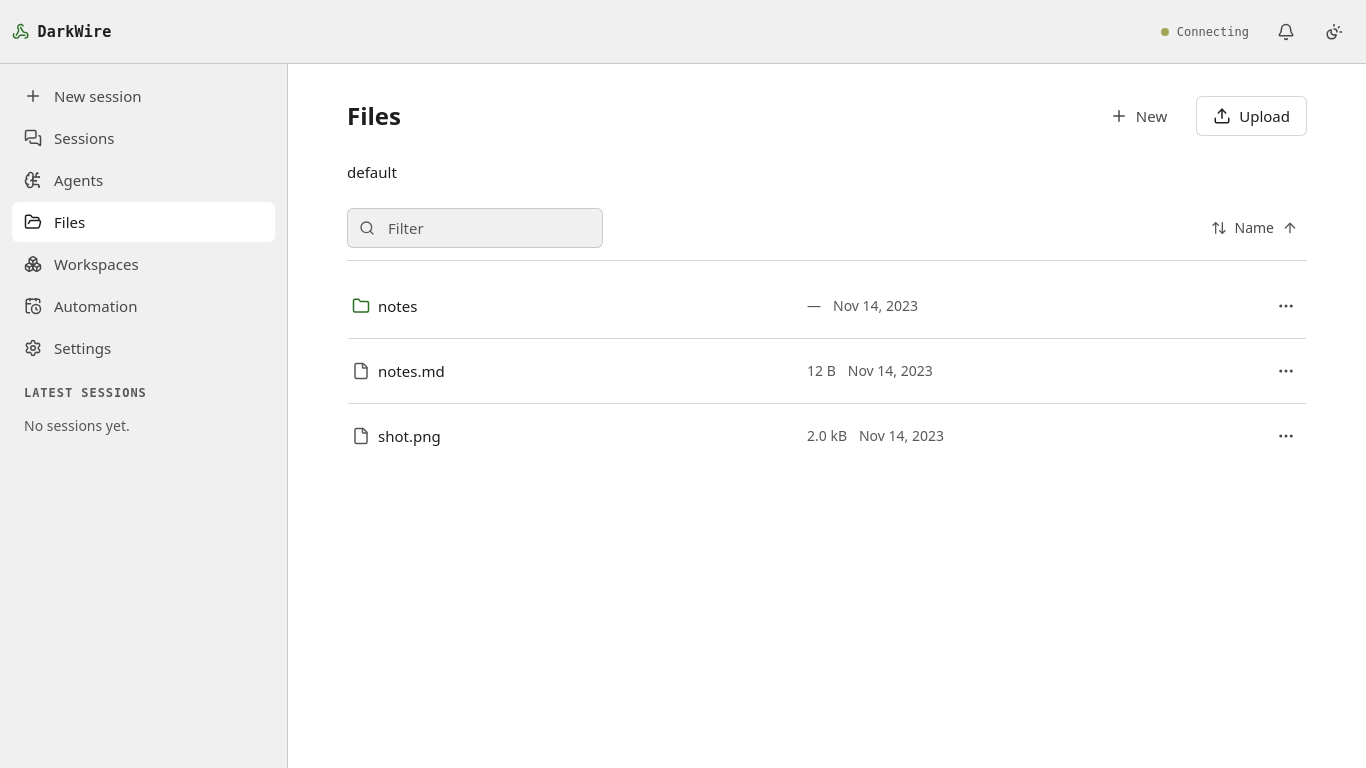
Scenario: the file browser › opens a file through the address, so its row is a link like every other
Click the link "notes.md": (398, 371) [352,361,445,381]
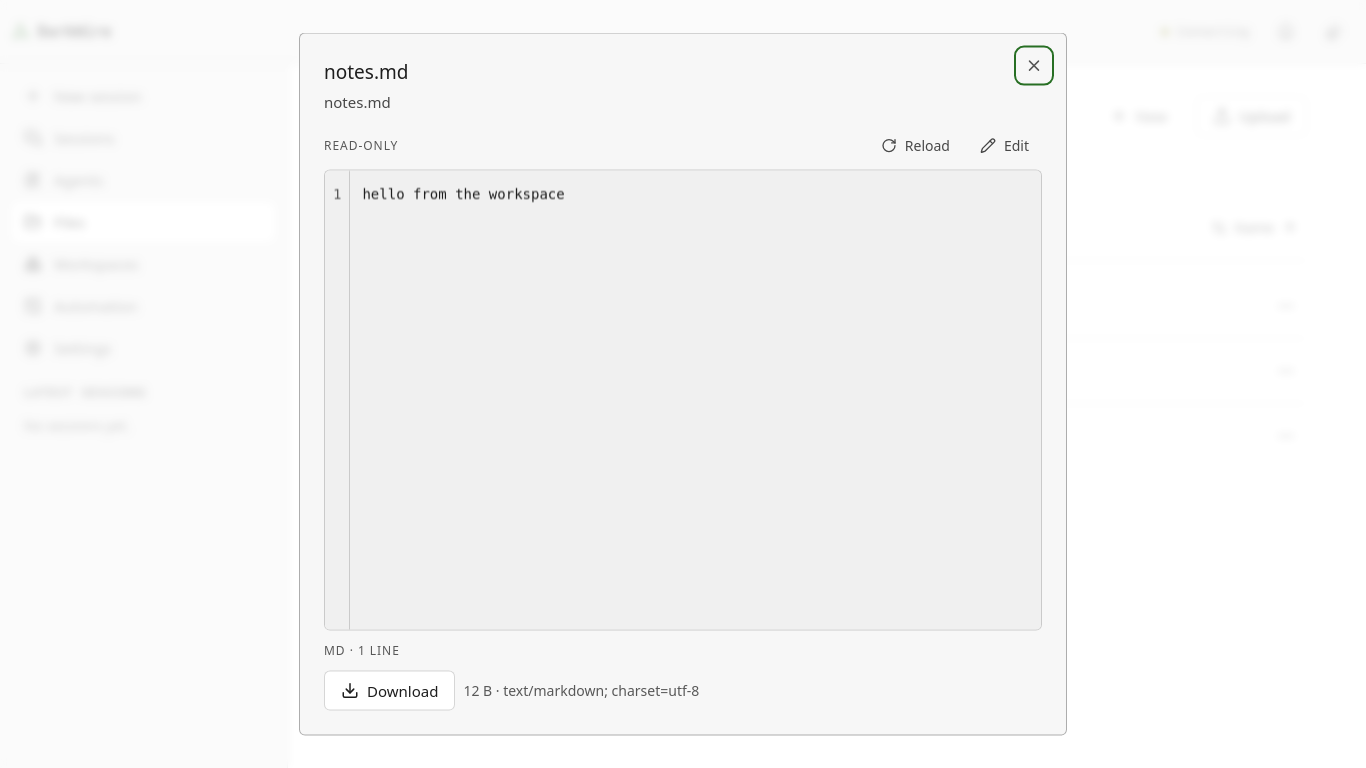
Expected: the dialog shows "notes.md", [324,59,408,85]
